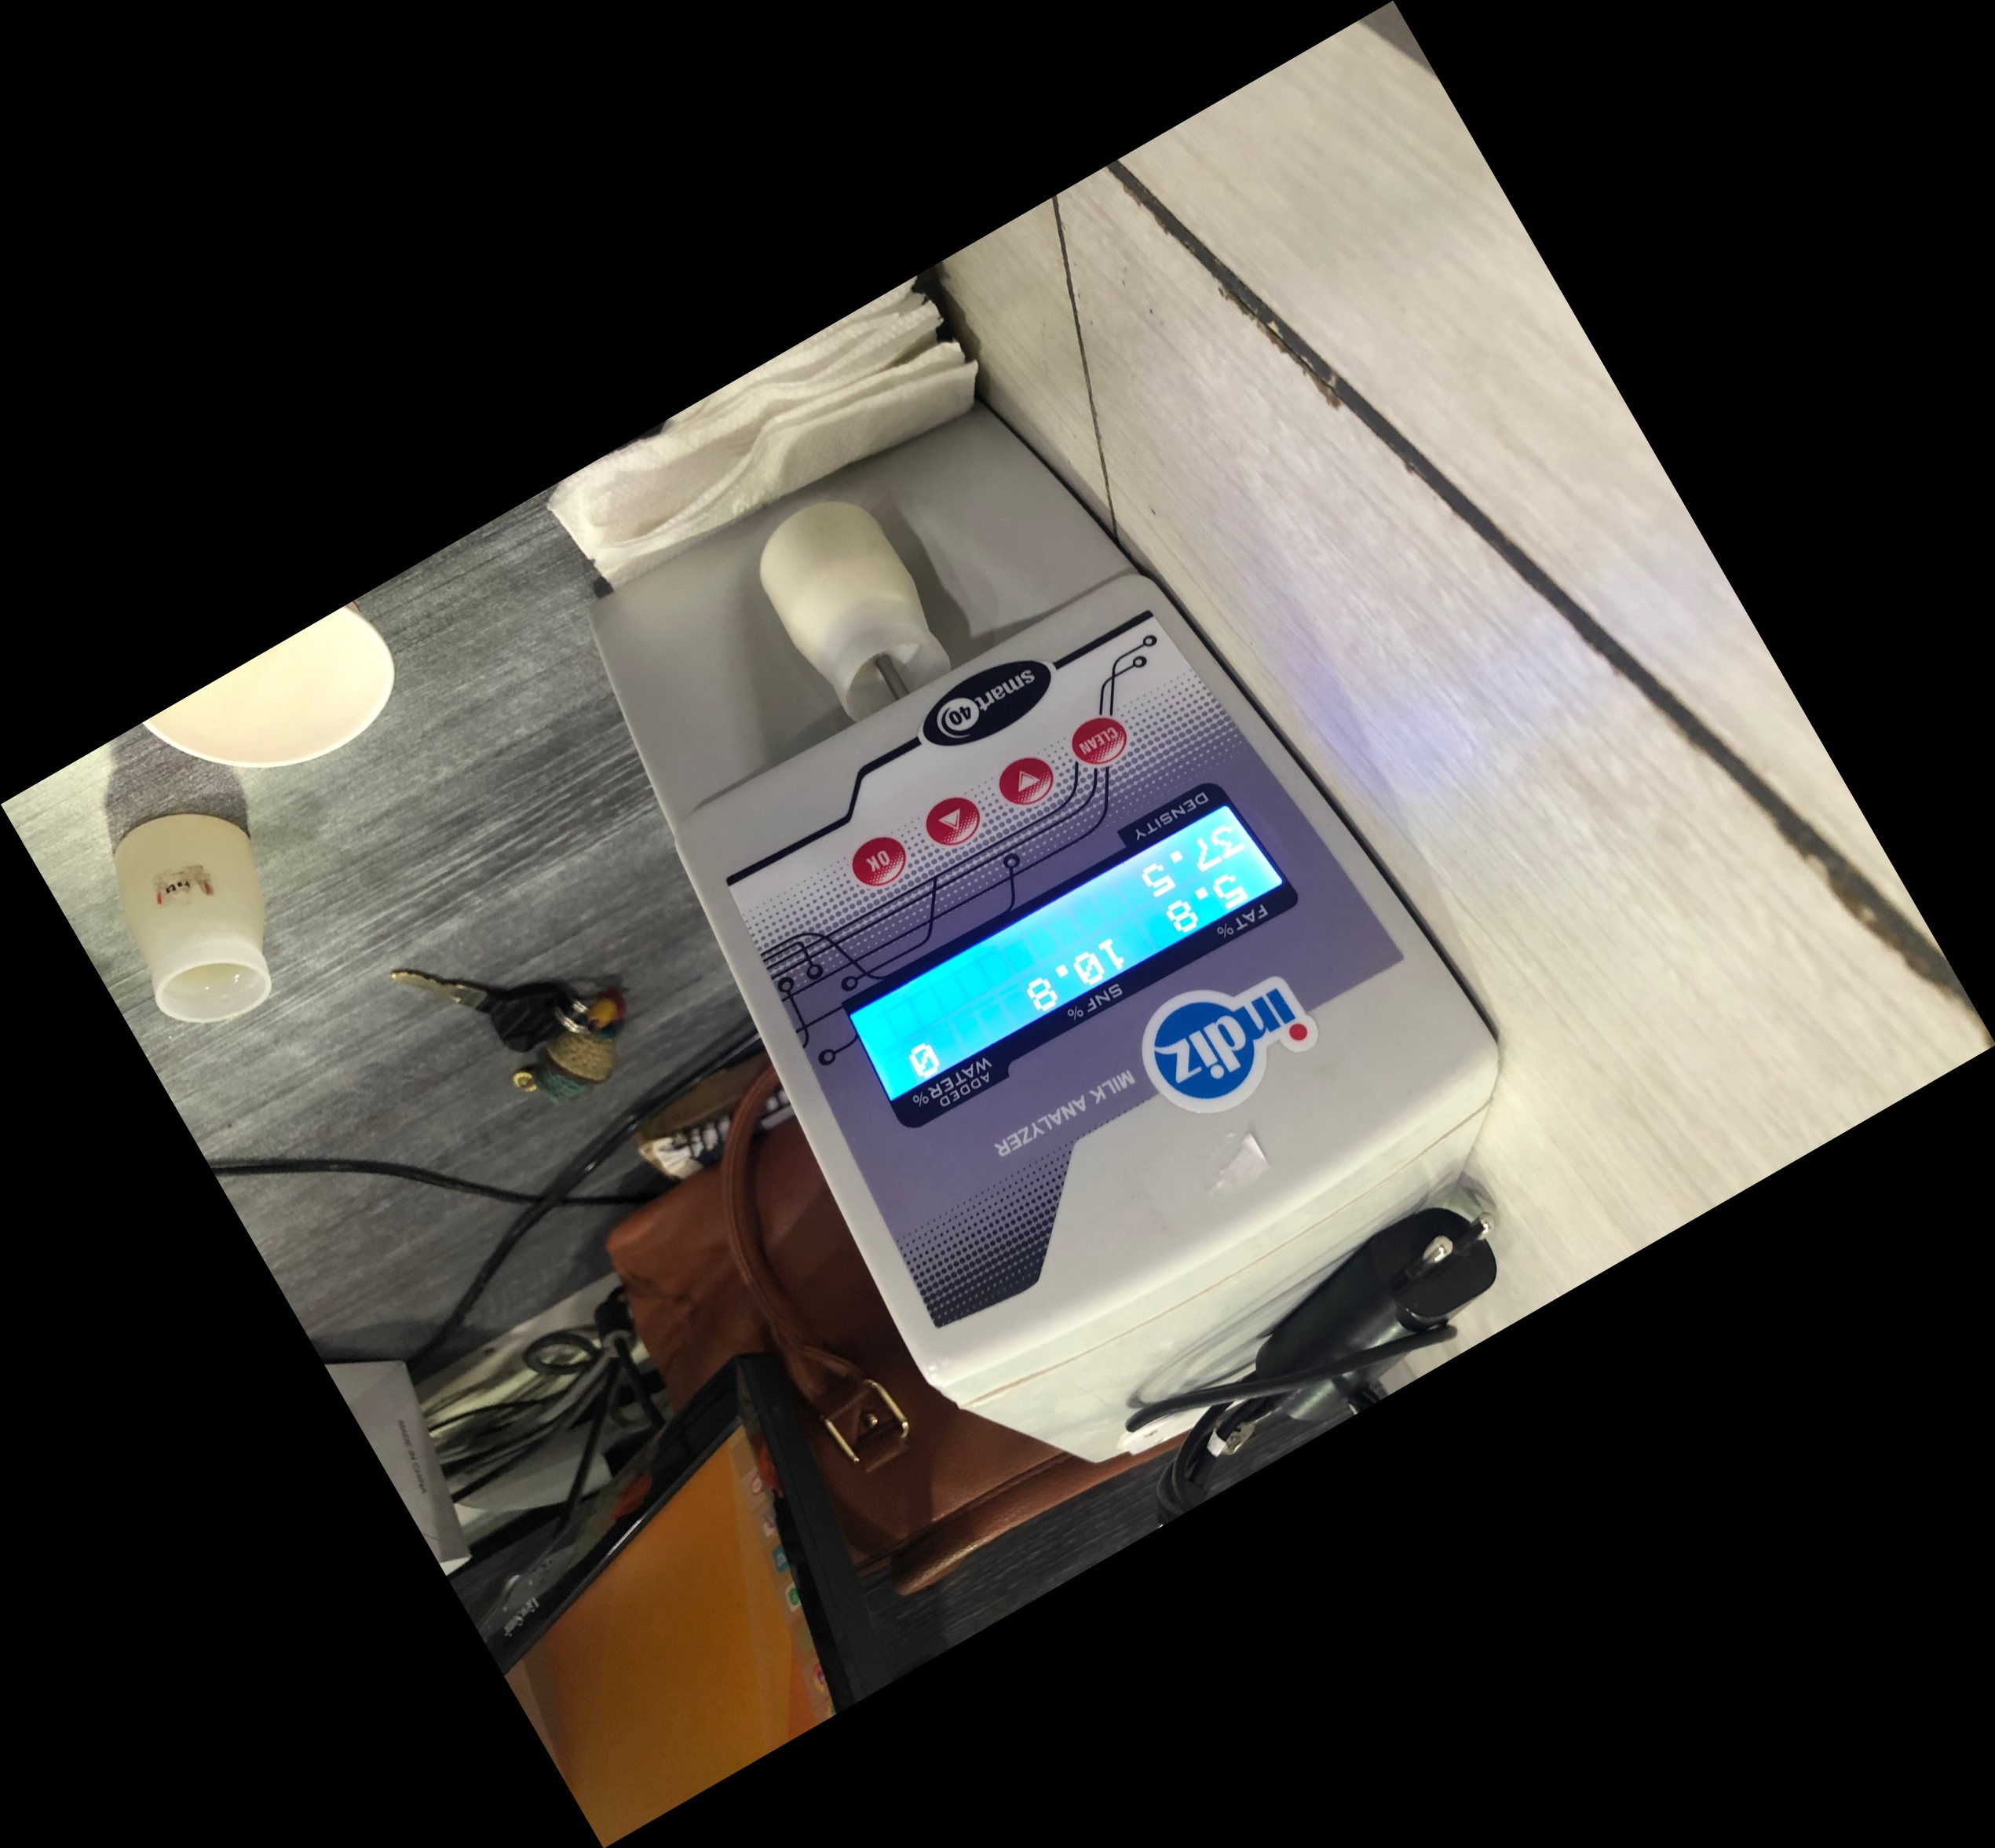lcd: (817, 757, 1316, 1157)
